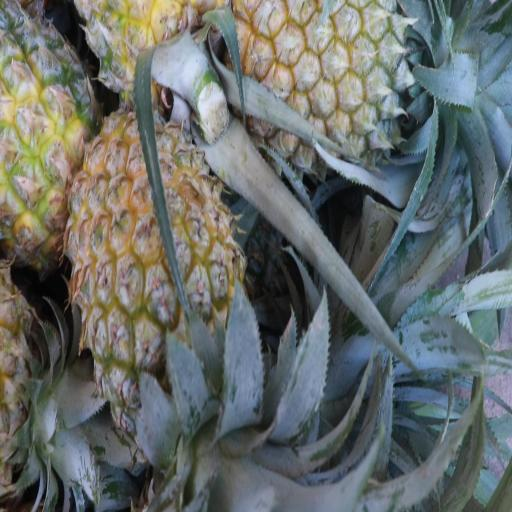------------------------------: (1, 0, 98, 274)
Pineapple - v8 v1: (63, 108, 267, 510), (219, 0, 412, 184), (66, 0, 232, 153)
